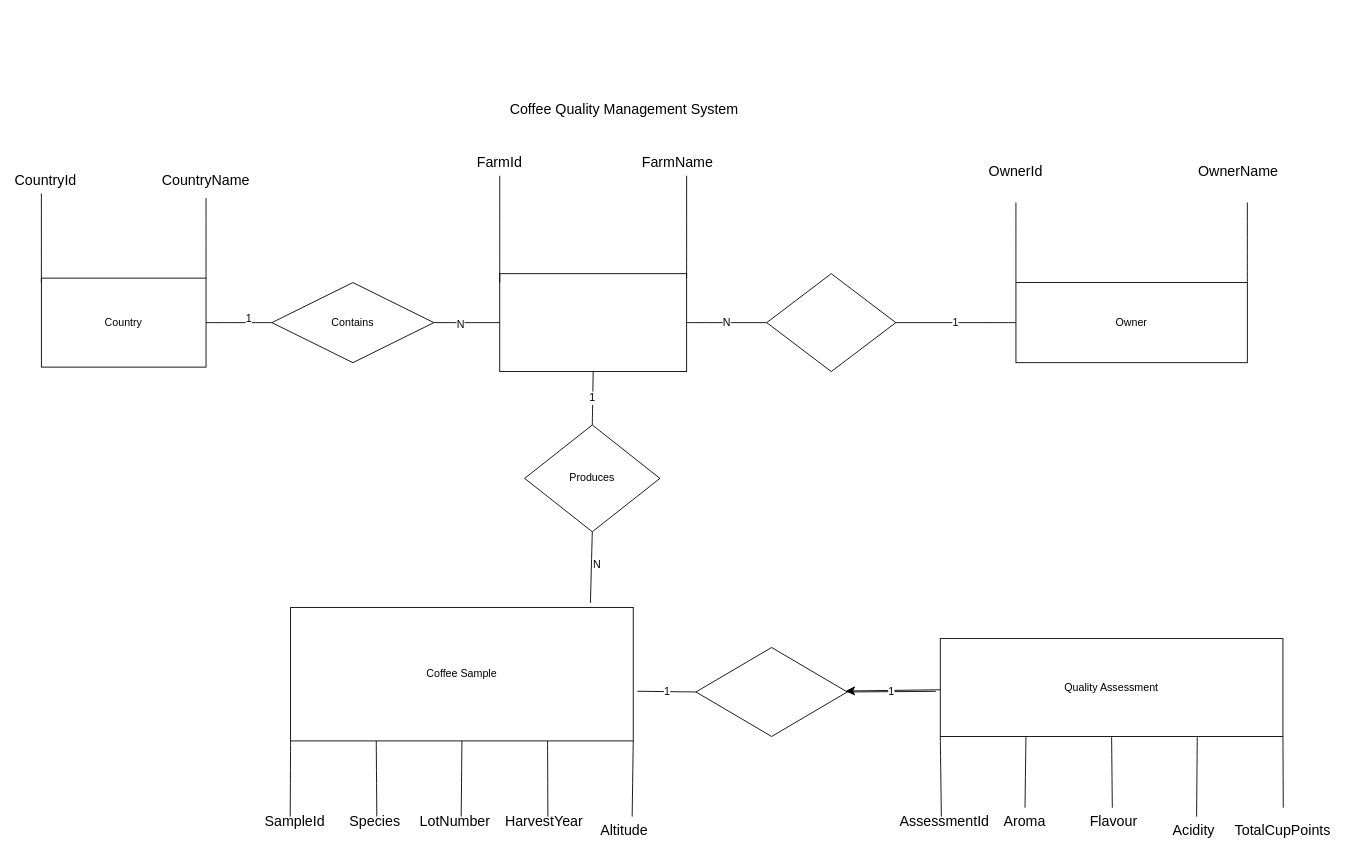
Image size: 1347x858. Some labels were removed from this diagram. The box of each missing label's shape, as (x1, y1, x2, y2) in pixels:
Farm: (499, 273, 687, 372)
Is assessed by: (695, 647, 847, 736)
Owns: (766, 273, 896, 372)
